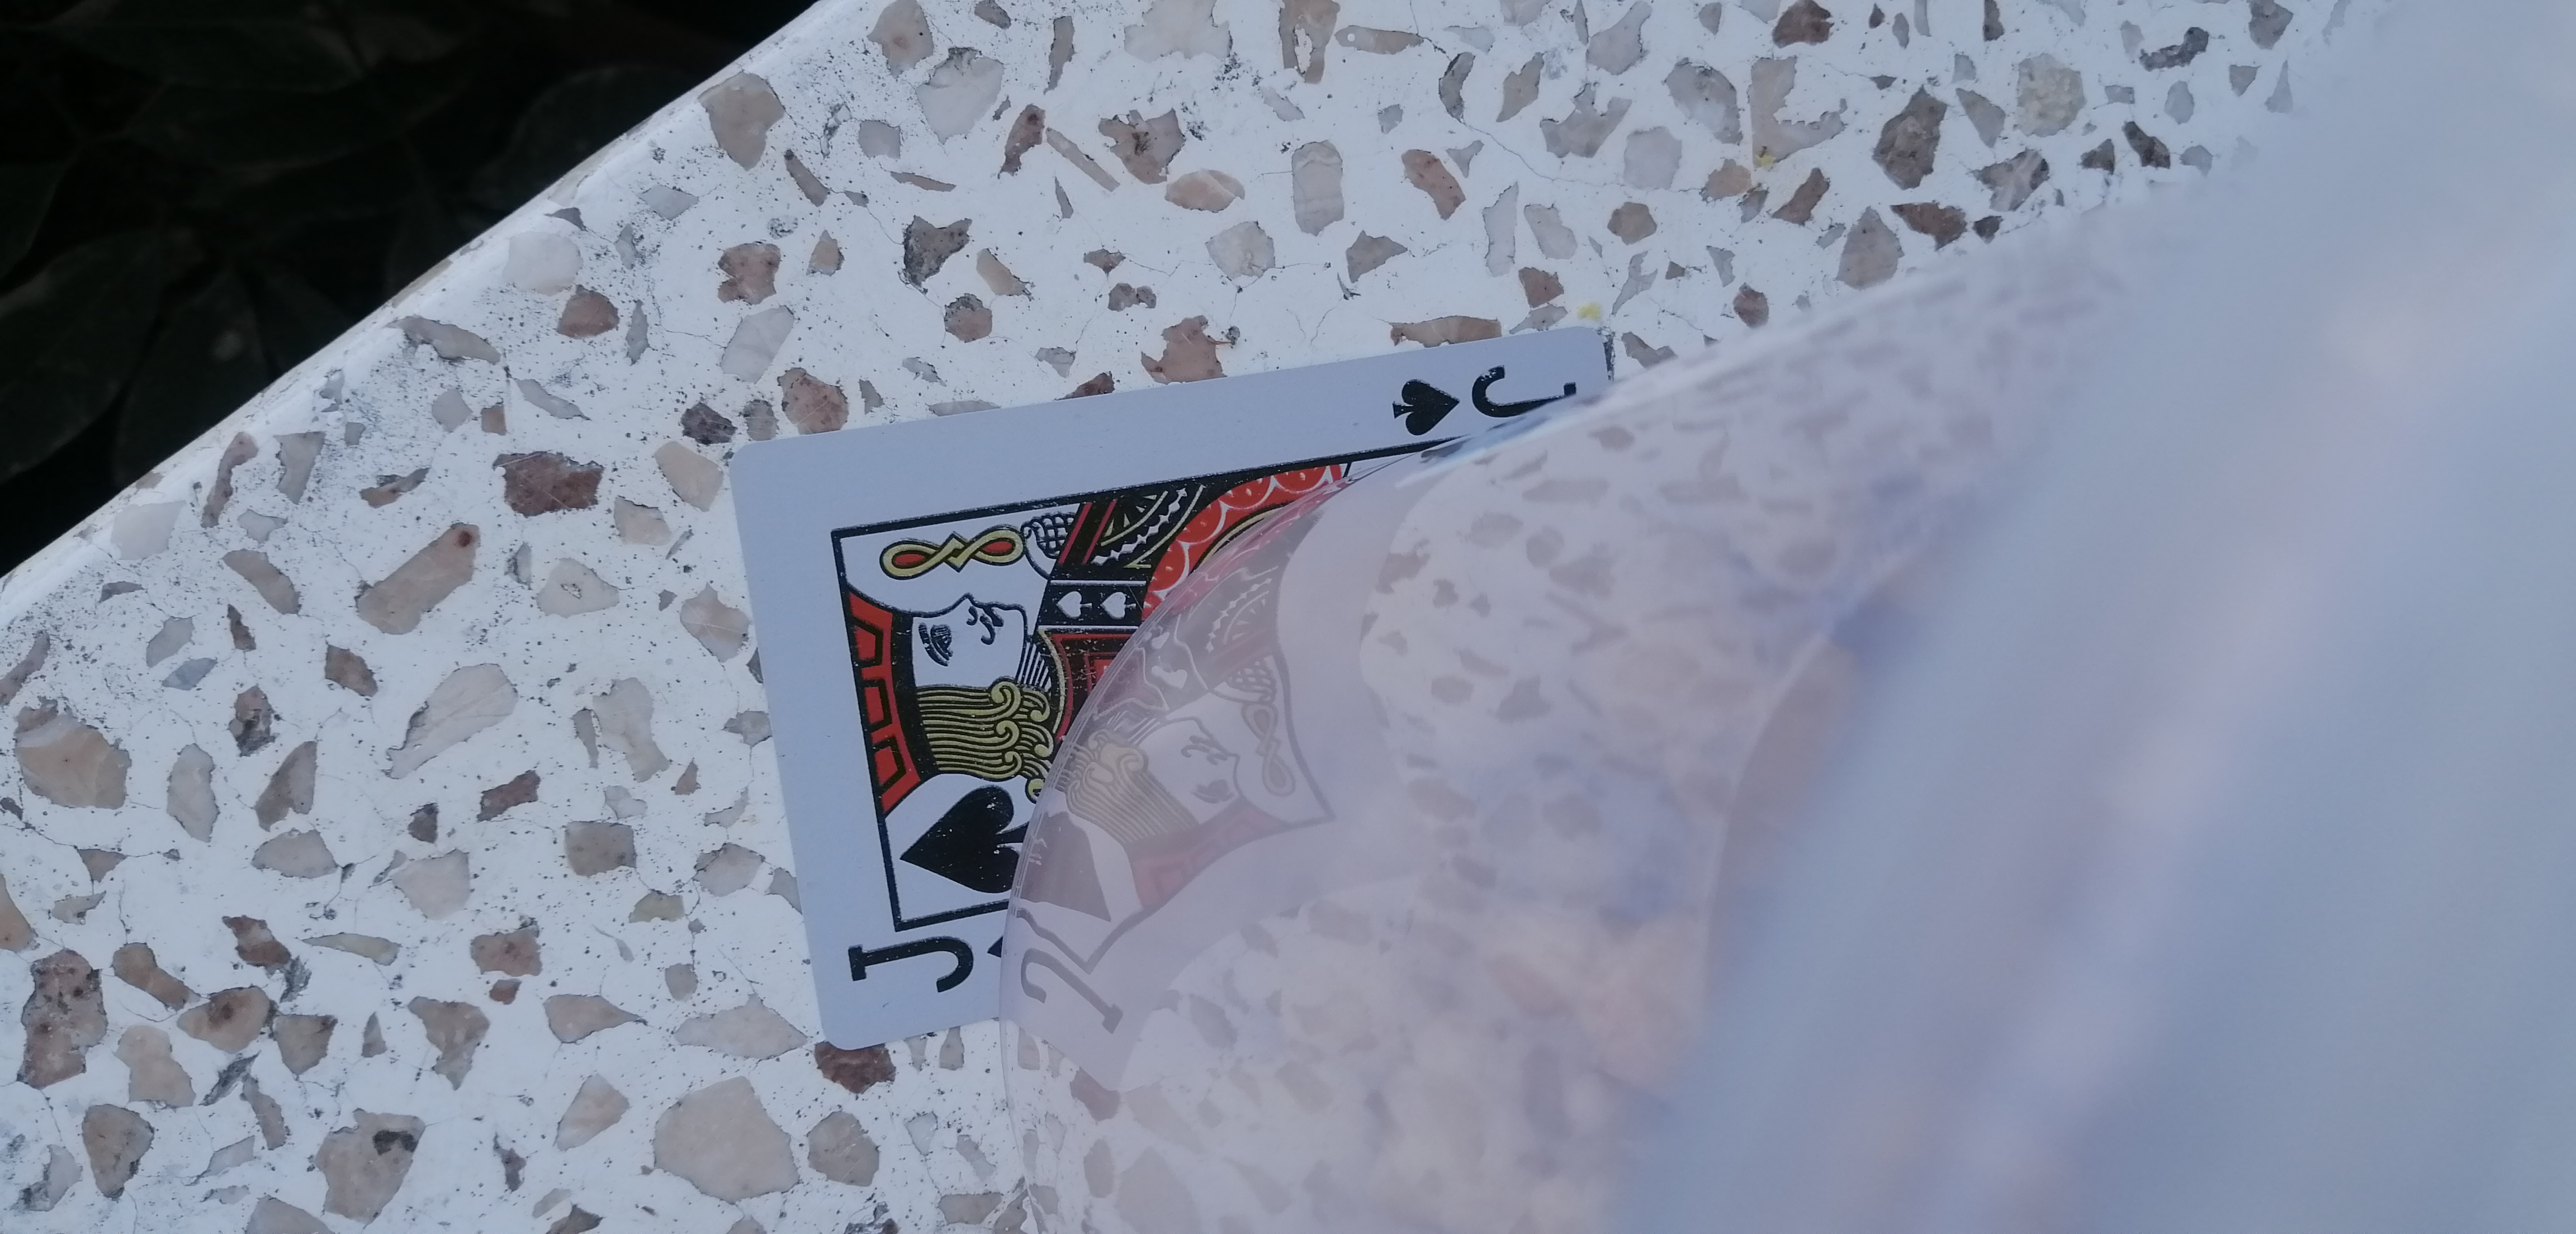jack: (660, 340, 1651, 1032)
